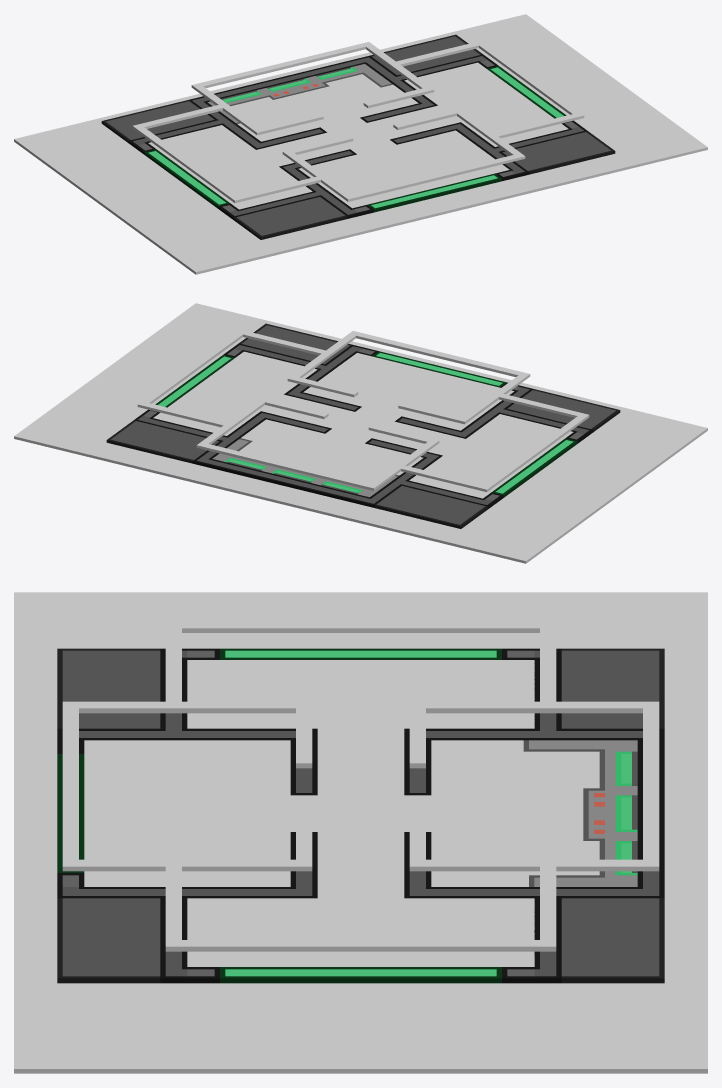
The model's file is control_centre.dae.
3 renders of one model, top to bottom at view 1: azimuth 30°, elevation 25°; view 2: azimuth 150°, elevation 25°; view 3: azimuth 270°, elevation 25°, orthographic. The views are drawn at different scales.
Parts seen in each view (by area): view 1: inside, inside_background, walls; view 2: inside, inside_background, walls; view 3: inside, inside_background, walls.
Part boxes in pixels (bbox=[...]): inside: bbox=[101, 34, 615, 239]; inside_background: bbox=[14, 14, 707, 274]; walls: bbox=[132, 40, 584, 202]; inside: bbox=[106, 323, 620, 528]; inside_background: bbox=[14, 303, 707, 563]; walls: bbox=[137, 329, 589, 491]; inside: bbox=[57, 648, 664, 983]; inside_background: bbox=[14, 592, 707, 1073]; walls: bbox=[62, 621, 659, 951].
Size of the model in its own units: 208 by 10 by 128.
